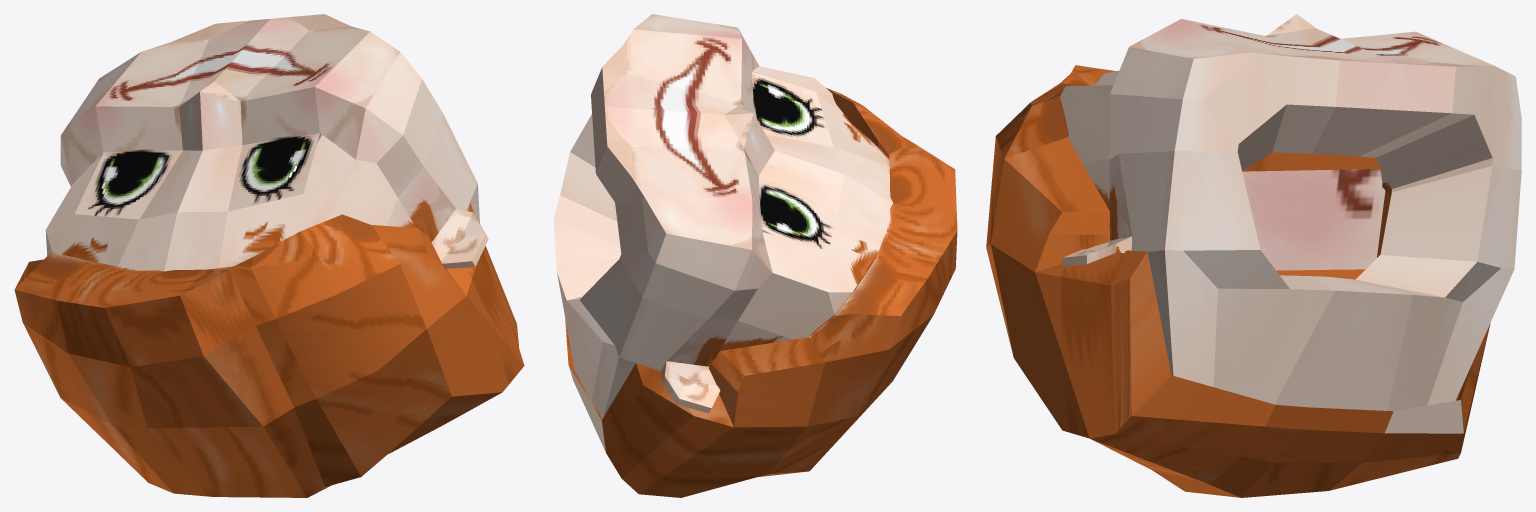
The model's file is maskot baru kepalanya aja.fbx.
3 renders of one model, left to right at view 1: azimuth 30°, elevation 25°; view 2: azimuth 150°, elevation 25°; view 3: azimuth 270°, elevation 25°, orthographic. The views are drawn at different scales.
Visible parts, largest first — view 1: Cube.006, Cube.005; view 2: Cube.005, Cube.006; view 3: Cube.005, Cube.006.
Part boxes in pixels (x1,y1,x2,y2): Cube.006: (14,202,524,497); Cube.005: (45,14,488,271); Cube.005: (553,14,892,419); Cube.006: (565,88,957,497); Cube.005: (1060,14,1521,411); Cube.006: (986,65,1490,497).
Bounding box in the file's own units: 203 × 196 × 202.
